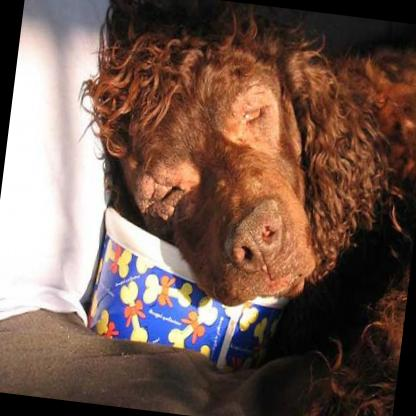Irish_water_spaniel: (42, 0, 416, 416)
